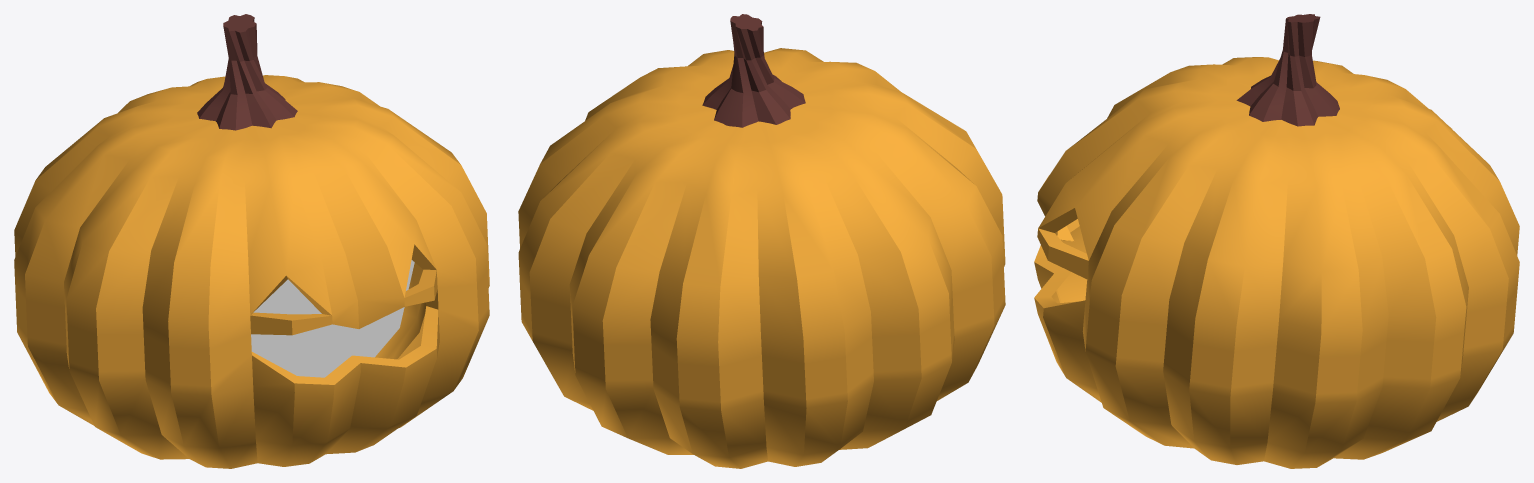
File: pumpkin.fbx
3 renders of one model, left to right at view 1: azimuth 30°, elevation 25°; view 2: azimuth 150°, elevation 25°; view 3: azimuth 270°, elevation 25°, orthographic. The views are drawn at different scales.
Parts seen in each view (by area): view 1: Sphere.001, Sphere.002; view 2: Sphere.001; view 3: Sphere.001.
Part boxes in pixels (left/top/right/bottom): Sphere.001: left=14, top=14, right=489, bottom=468; Sphere.002: left=251, top=260, right=414, bottom=377; Sphere.001: left=518, top=14, right=1005, bottom=468; Sphere.001: left=1034, top=14, right=1519, bottom=468.
Size of the model in its own units: 225 by 211 by 226.
